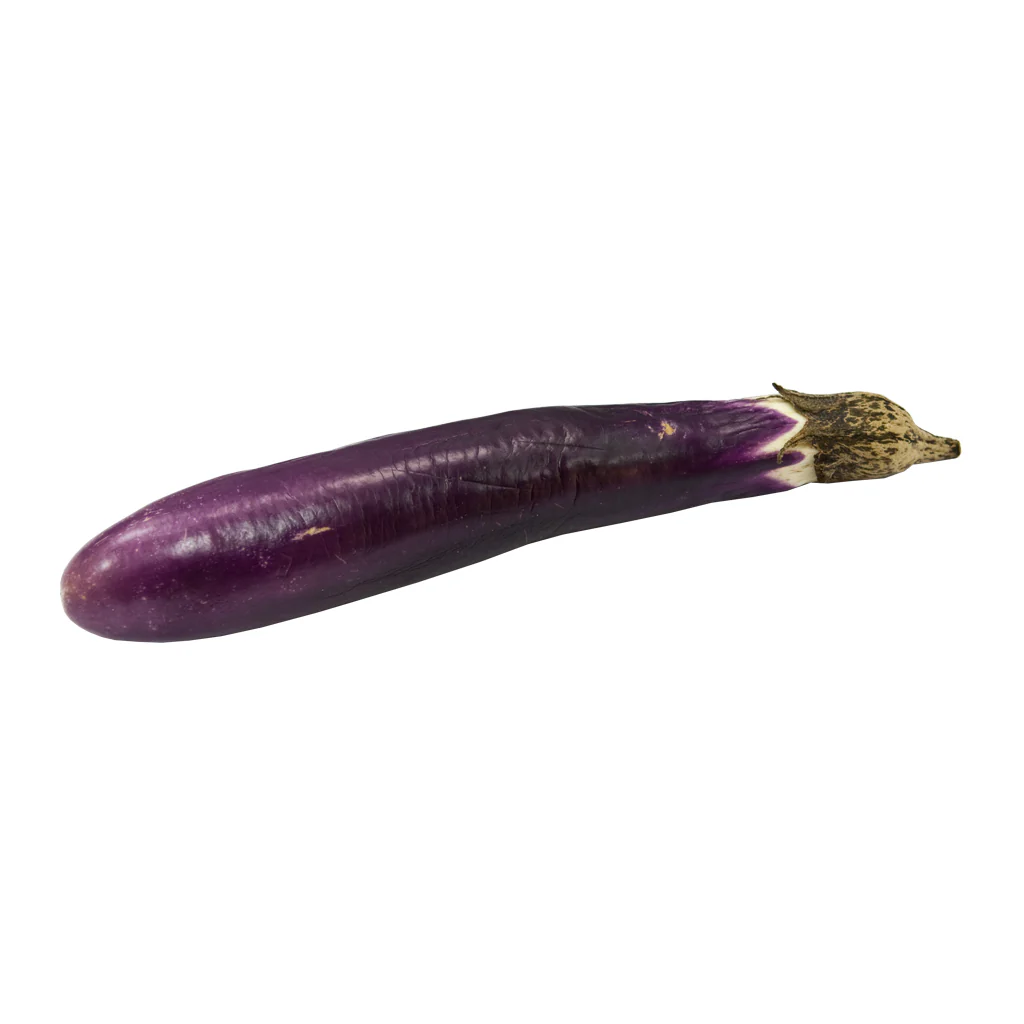food_waste: (34, 506, 967, 678)
